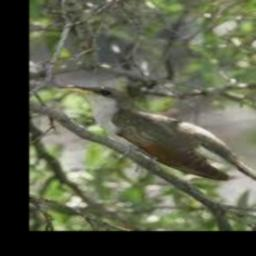Cuckoo: (61, 85, 256, 195)
